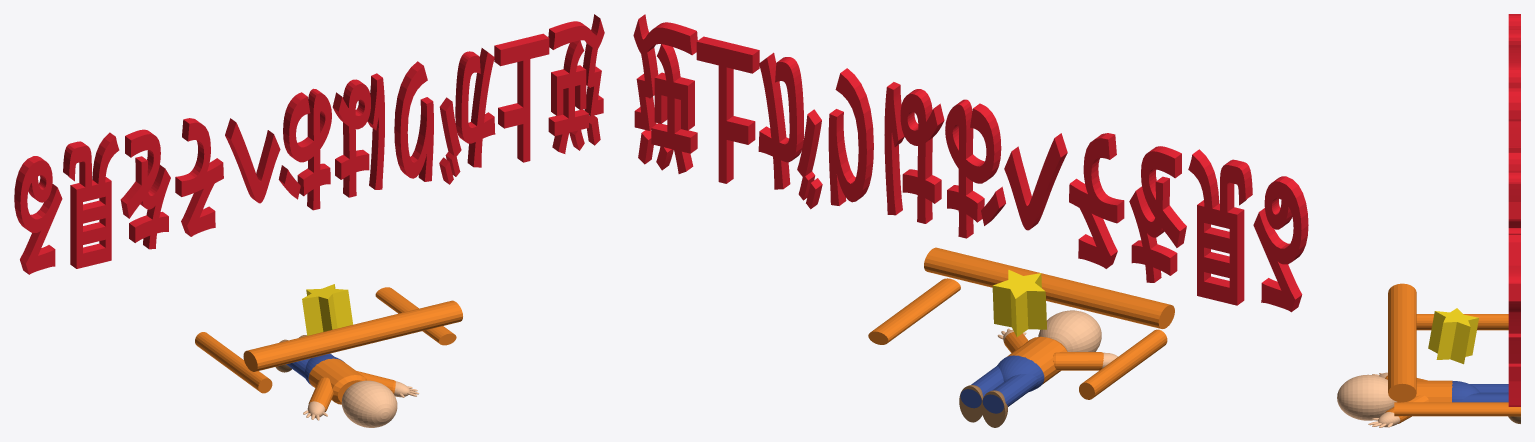
Rendered from tinker.obj.
3 renders of one model, left to right at view 1: azimuth 30°, elevation 25°; view 2: azimuth 150°, elevation 25°; view 3: azimuth 270°, elevation 25°, orthographic. The views are drawn at different scales.
Visible parts, largest first — view 1: group_0_15277357, group_0_16089887, group_0_16500122, group_0_16768282; view 2: group_0_15277357, group_0_16089887, group_0_16768282, group_0_3888547, group_0_16500122, group_0_11107152; view 3: group_0_16089887, group_0_15277357, group_0_16500122, group_0_16768282, group_0_3888547.
Part boxes in pixels (x1,y1,x2,y2): group_0_15277357: [14, 14, 604, 274]; group_0_16089887: [195, 287, 462, 411]; group_0_16500122: [303, 380, 419, 427]; group_0_16768282: [302, 284, 352, 335]; group_0_15277357: [633, 14, 1308, 312]; group_0_16089887: [868, 247, 1174, 399]; group_0_16768282: [992, 270, 1046, 336]; group_0_3888547: [960, 355, 1044, 413]; group_0_16500122: [997, 310, 1117, 368]; group_0_11107152: [959, 385, 1007, 427]; group_0_16089887: [1385, 283, 1520, 423]; group_0_15277357: [1508, 14, 1520, 406]; group_0_16500122: [1337, 372, 1400, 427]; group_0_16768282: [1428, 308, 1478, 364]; group_0_3888547: [1452, 380, 1508, 402].
Size of the model in its own units: 165 by 76 by 45.
